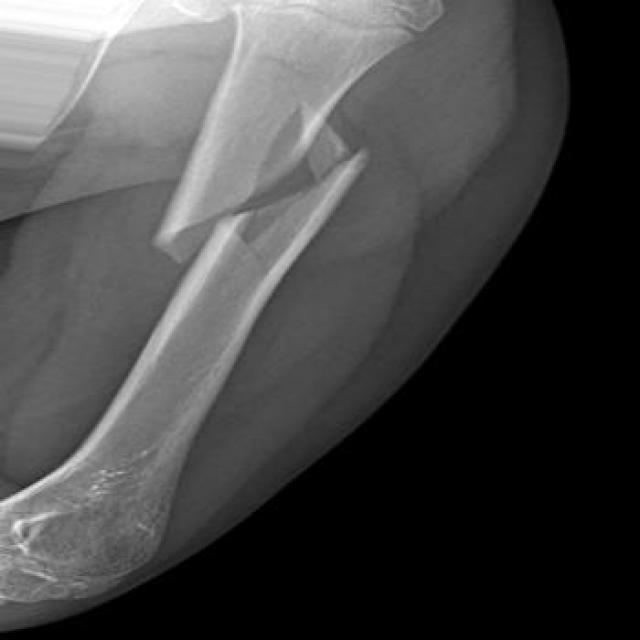Fracture: (144, 108, 408, 278)
